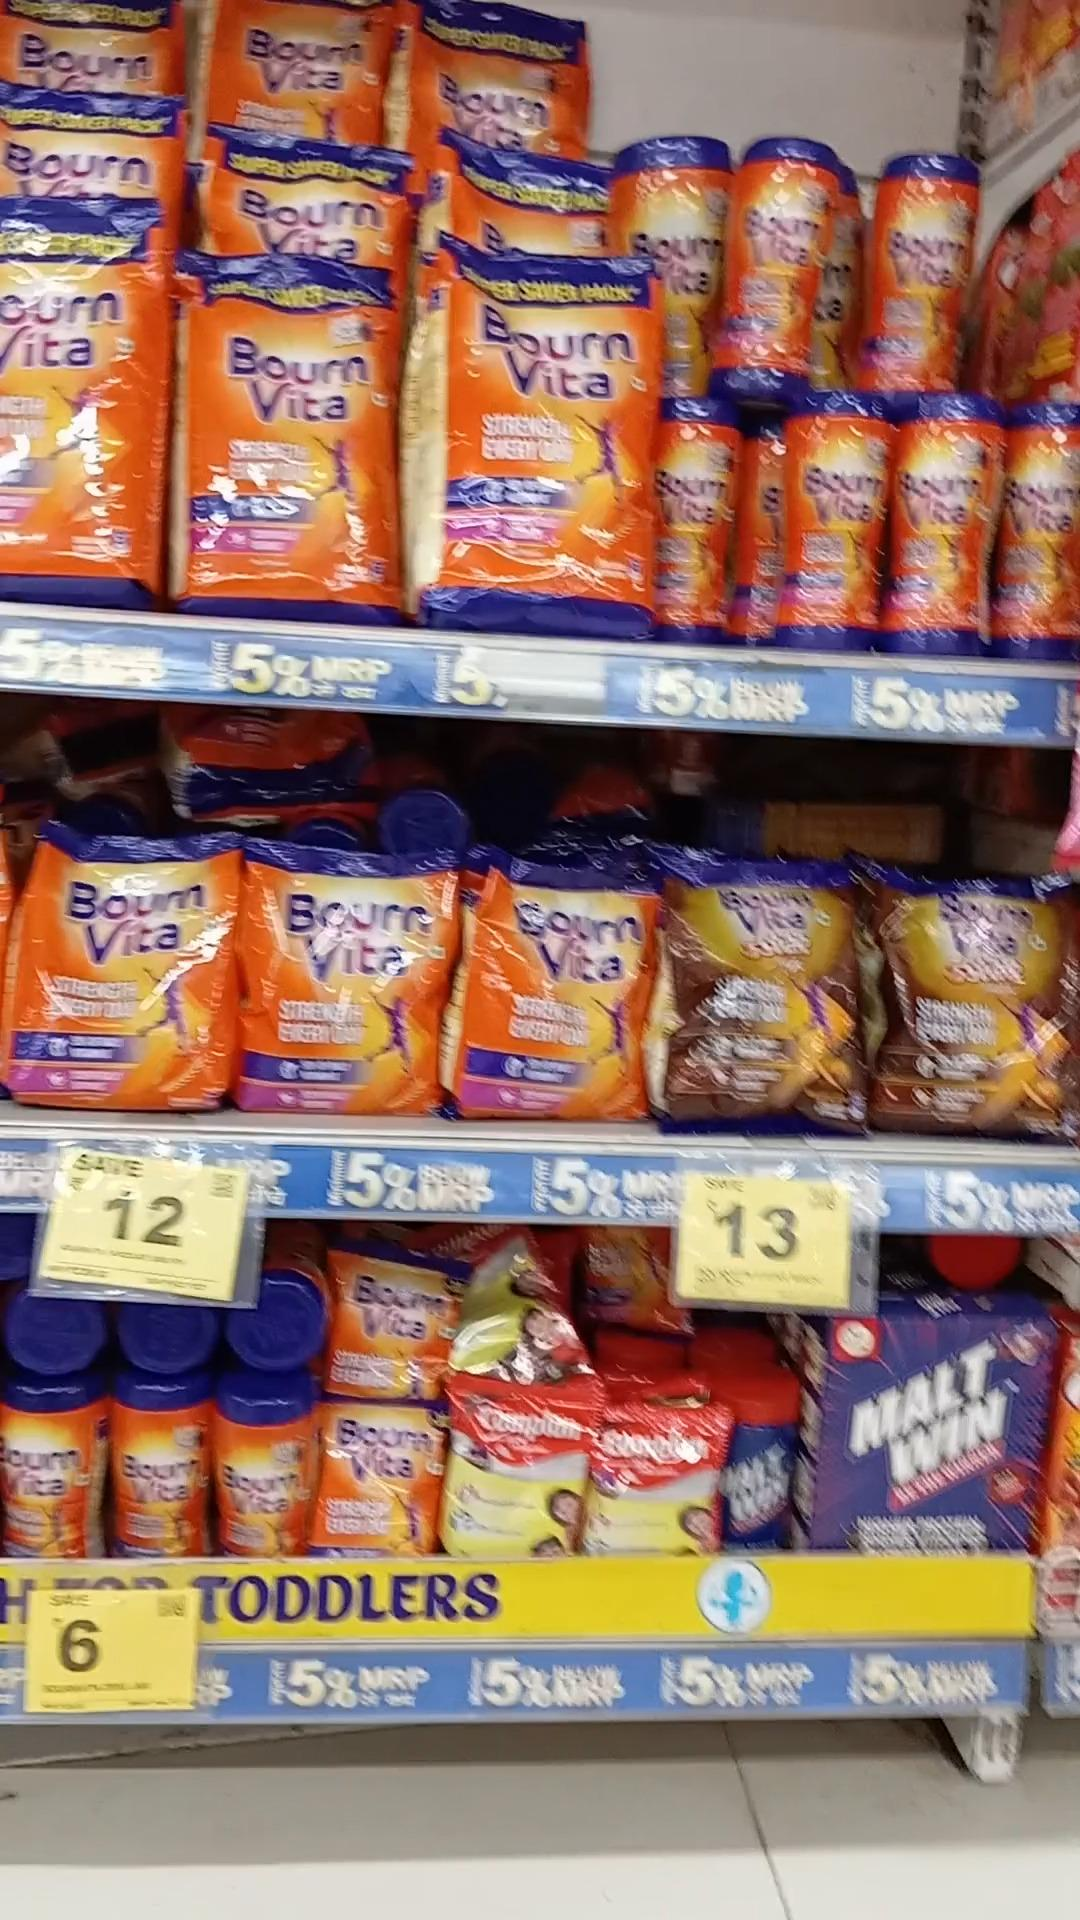BOURN_VITA_1_KG_POUCH: (431, 240, 657, 628), (183, 255, 400, 620)
BOURN_VITA_200_G_JAR: (0, 1378, 108, 1559), (116, 1379, 210, 1556), (218, 1385, 313, 1559)
BOURN_VITA_500_G_JAR: (728, 128, 833, 382), (893, 392, 989, 651), (791, 389, 884, 650), (877, 154, 973, 381)
BOURN_VITA_500_G_POUCH: (29, 822, 223, 1104), (251, 839, 434, 1113), (459, 847, 641, 1121)
BOURN_VITA_75_G_POUCH: (322, 1400, 439, 1555), (335, 1241, 442, 1398)
BOURN_VITA_FIVE_STAR_MAGIC_500_G_POUCH: (667, 843, 862, 1130), (882, 869, 1080, 1139)
